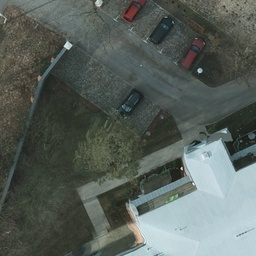car: (180, 34, 204, 72), (151, 17, 174, 43), (119, 91, 143, 115), (122, 1, 147, 22)
